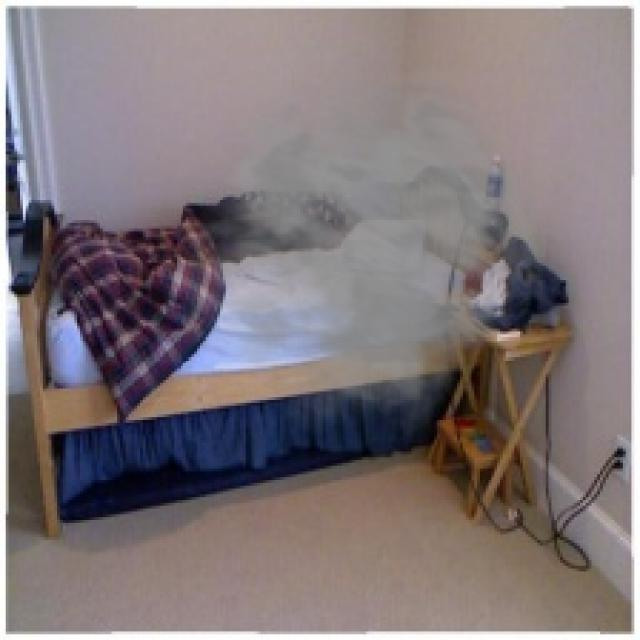smoke: (163, 63, 548, 443)
